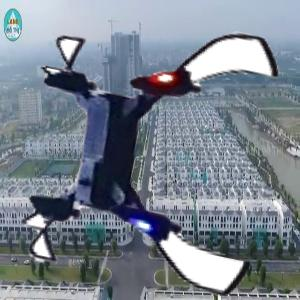drone: (21, 17, 289, 285)
